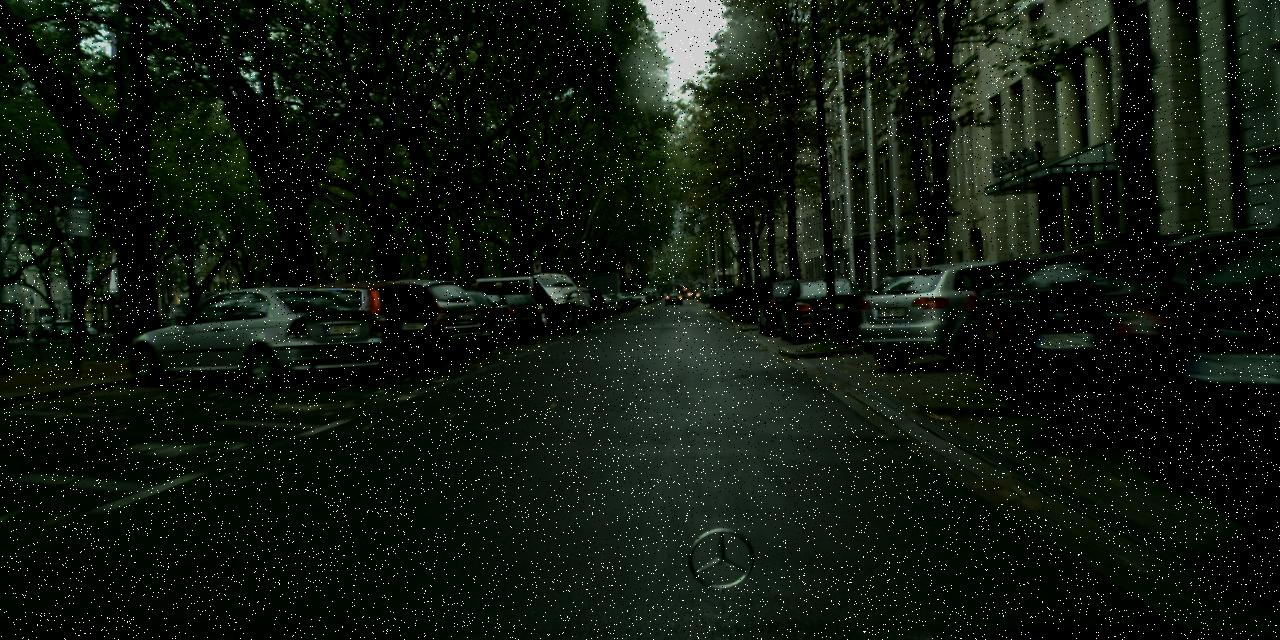ped: (486, 282, 510, 341), (461, 282, 483, 337), (571, 281, 592, 334)
